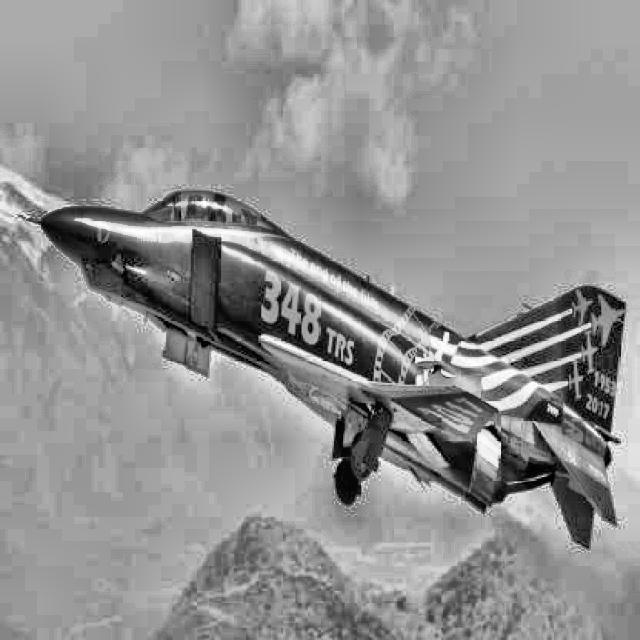F4: (18, 190, 627, 550)
